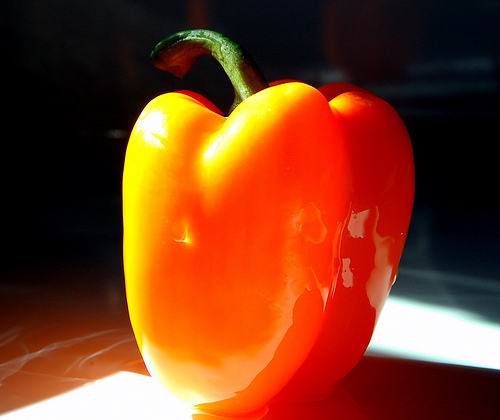capsicum: (120, 26, 415, 418)
